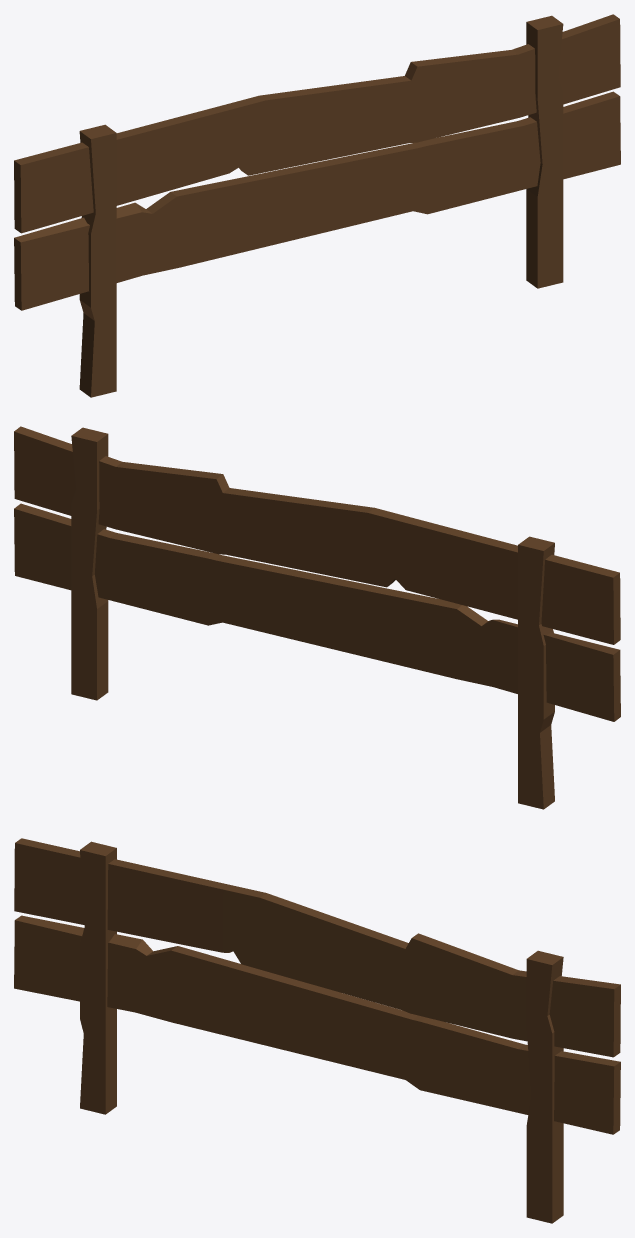
Rendered from Fence.gltf.
3 views of the same model, one above another, from view 1: azimuth 30°, elevation 25°; view 2: azimuth 150°, elevation 25°; view 3: azimuth 330°, elevation 25° (orthographic).
Parts seen in each view (by area): view 1: Fence; view 2: Fence; view 3: Fence.
Boxes of the visible parts, x1,y1,x2,y2 form: Fence: [14, 14, 620, 397]; Fence: [14, 426, 620, 809]; Fence: [14, 838, 620, 1223].
Bounding box in the file's own units: 0.791 × 0.326 × 0.0259.
